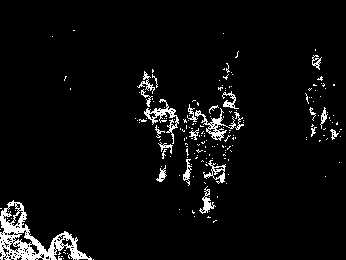person: (199, 104, 223, 215), (152, 98, 173, 185), (182, 99, 202, 184), (139, 69, 158, 116)
